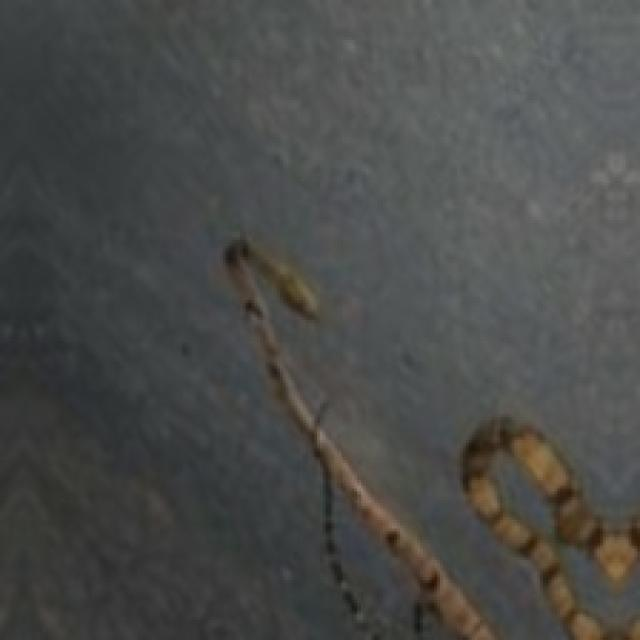dog-toothed cat snake: (226, 237, 497, 637), (460, 417, 637, 637), (463, 417, 637, 637)
